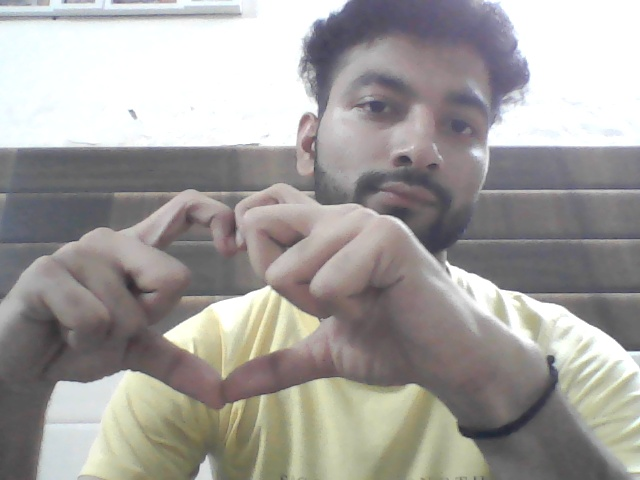Iloveyou: (33, 193, 457, 412)
